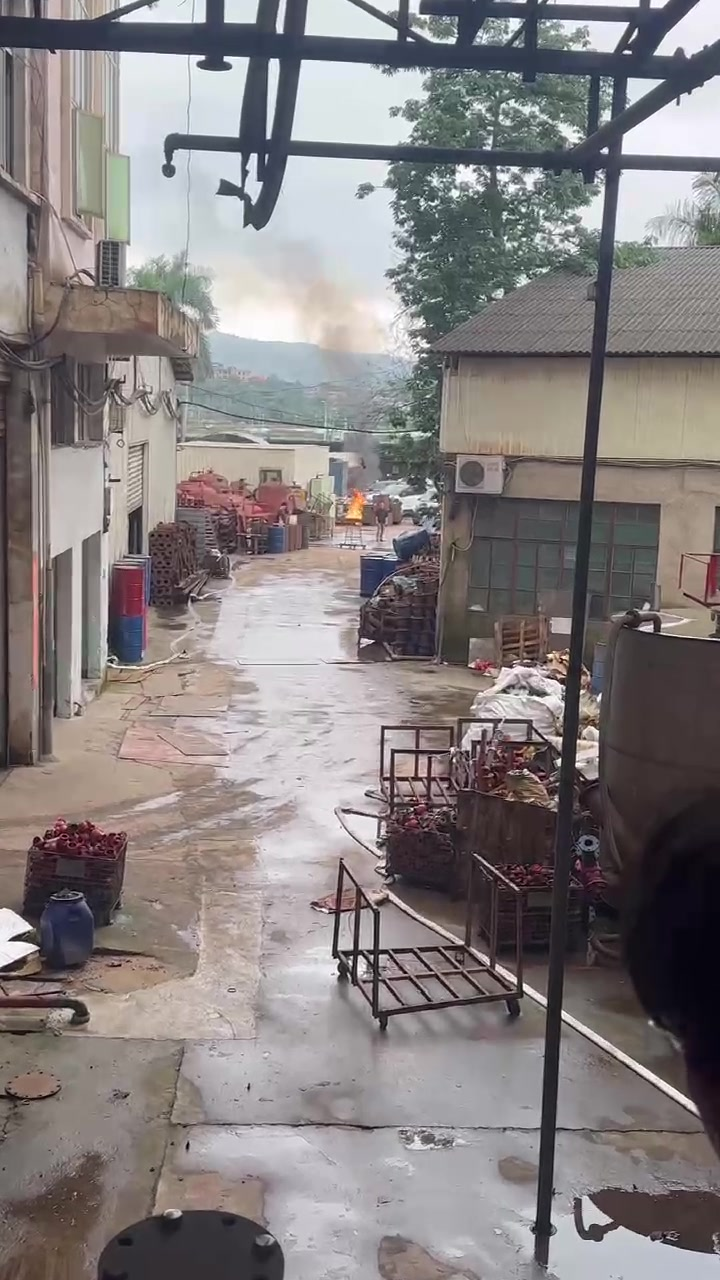fire: (345, 488, 363, 518)
